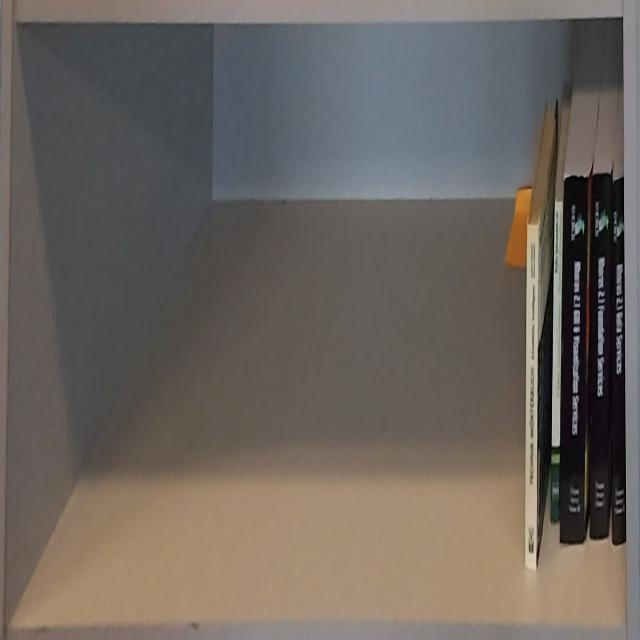Book Spine: (559, 176, 589, 543), (590, 173, 611, 540), (525, 224, 539, 573), (613, 176, 626, 548), (551, 200, 563, 525)
